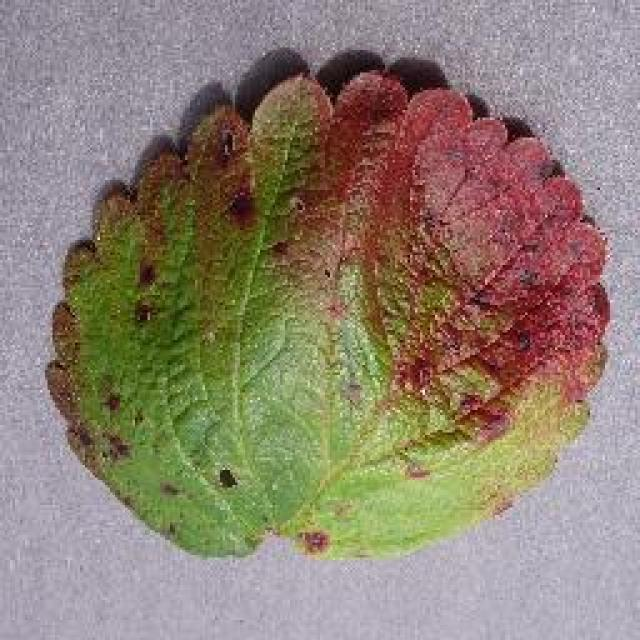Strawberry leaf scorch: (180, 123, 553, 467)
